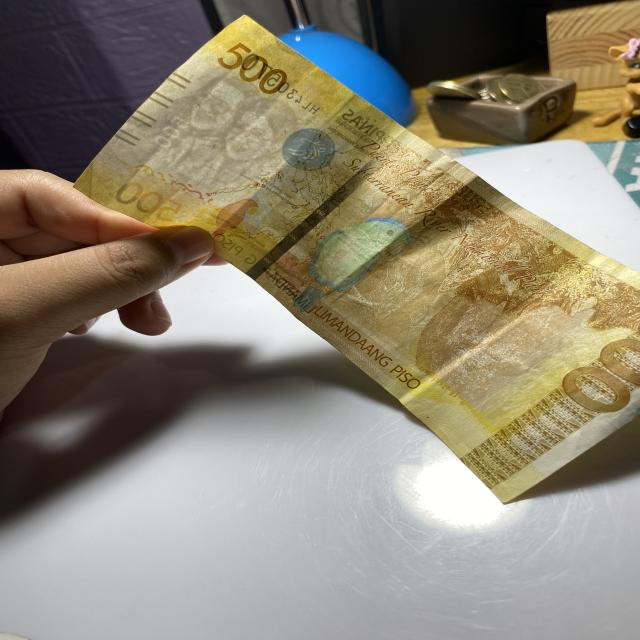500_big_parrot: (290, 216, 424, 313)
500_parrot_watermark: (210, 197, 262, 241)
value_watermark: (146, 115, 191, 148)
watermark: (158, 84, 304, 190)
